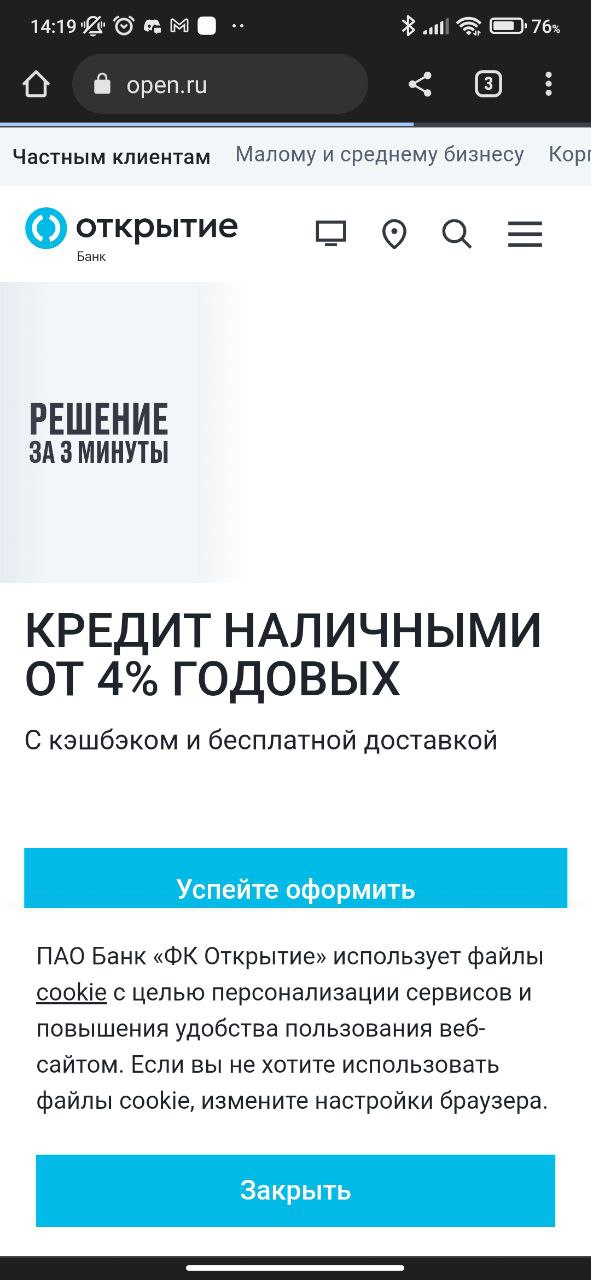burger_menu: (506, 217, 546, 252)
